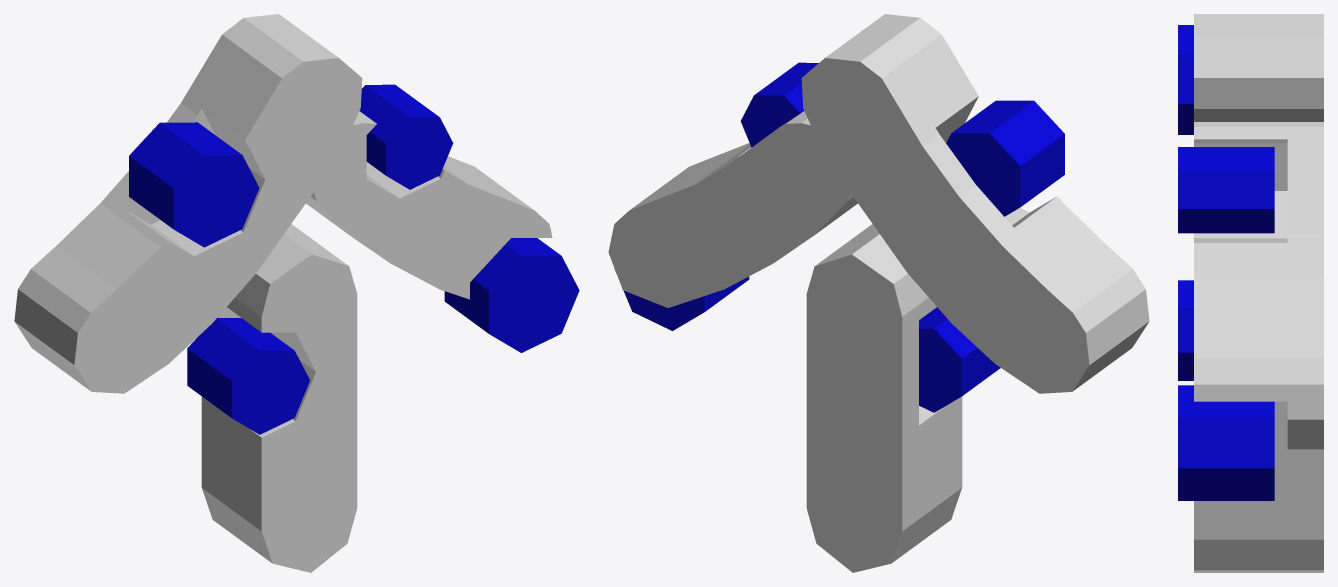
Rendered from Ch_Lite_China_个_01.fbx.
3 views of the same model, side by side, from view 1: azimuth 30°, elevation 25°; view 2: azimuth 150°, elevation 25°; view 3: azimuth 270°, elevation 25° (orthographic). The views are drawn at different scales.
Visible parts, largest first — view 1: sphere1; view 2: sphere1; view 3: sphere1.
Boxes of the visible parts, x1,y1,x2,y2 form: sphere1: [14, 14, 579, 572]; sphere1: [608, 14, 1149, 572]; sphere1: [1178, 14, 1323, 572].
Size of the model in its own units: 0.9577 by 0.9429 by 0.2242.
